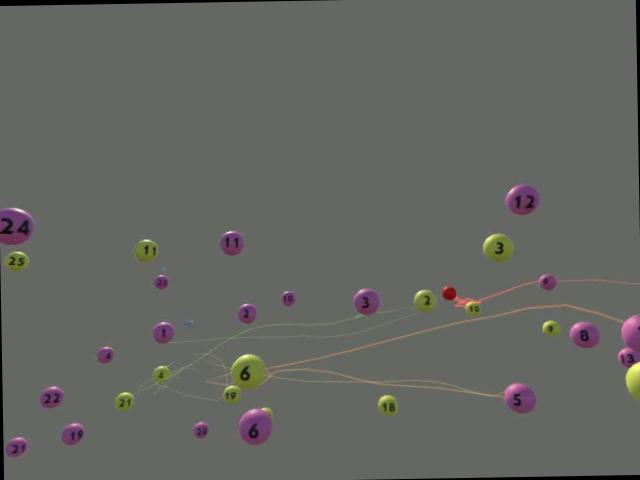ball_01_pink: (152, 321, 174, 343)
ball_02_pink: (238, 302, 256, 322)
ball_02_yellow: (413, 288, 436, 311)
ball_03_pink: (353, 288, 380, 315)
ball_03_yellow: (482, 232, 513, 261)
ball_04_pink: (96, 346, 115, 364)
ball_04_yellow: (152, 364, 170, 384)
ball_05_pink: (504, 381, 536, 413)
ball_06_pink: (238, 406, 272, 444)
ball_06_yellow: (230, 352, 266, 390)
ball_08_pink: (568, 320, 600, 348)
ball_09_pink: (538, 274, 556, 291)
ball_09_yellow: (542, 319, 562, 338)
ball_10_pink: (280, 290, 296, 306)
ball_10_yellow: (465, 300, 481, 316)
ball_11_pink: (218, 230, 244, 255)
ball_11_yellow: (134, 238, 157, 261)
ball_12_pink: (504, 183, 540, 215)
ball_13_pink: (617, 346, 640, 366)
ball_18_yellow: (377, 394, 398, 416)
ball_19_pink: (62, 422, 84, 444)
ball_19_yellow: (222, 384, 240, 402)
ball_20_pink: (193, 421, 209, 438)
ball_21_pink: (6, 436, 27, 456)
ball_21_yellow: (114, 392, 134, 411)
ball_22_pink: (38, 386, 64, 408)
ball_24_pink: (0, 206, 34, 245)
ball_25_pink: (154, 274, 168, 289)
ball_25_yellow: (4, 250, 28, 270)
ball_unknown: (620, 313, 640, 353), (625, 361, 640, 400), (261, 406, 273, 420)
user_cursor: (441, 285, 456, 300)
